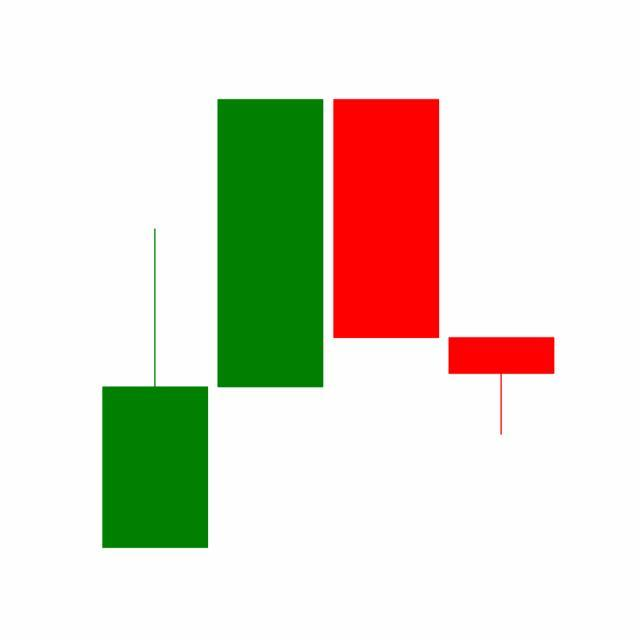Marubozu: (329, 97, 445, 341)
